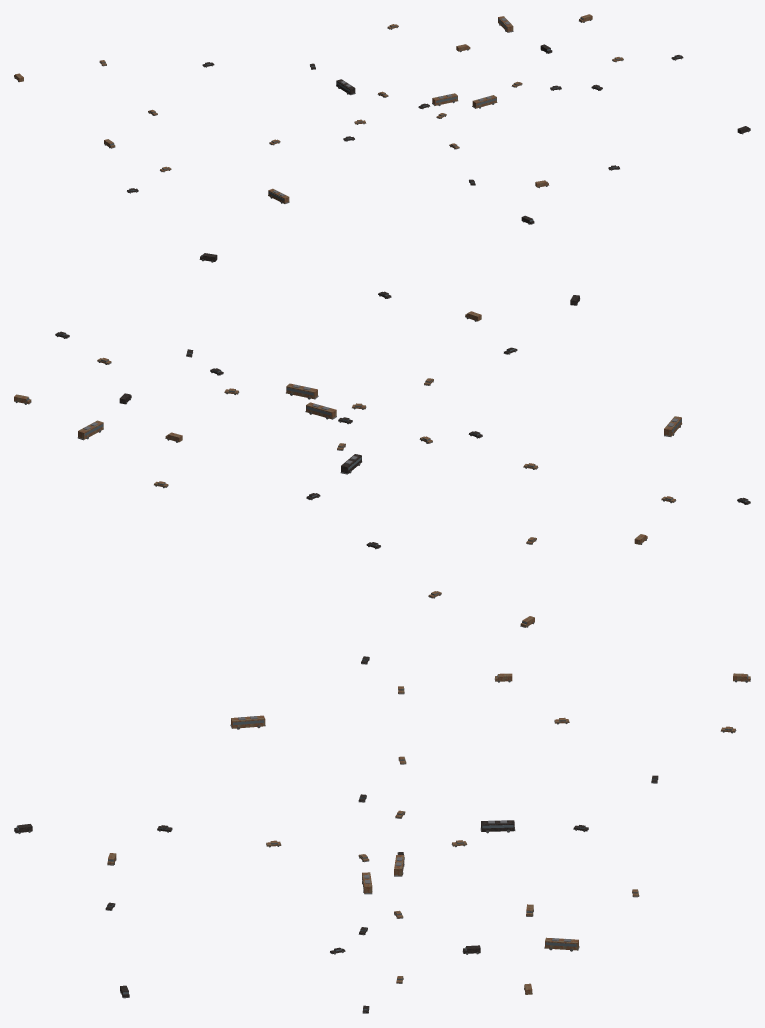
File: Destroyed_Vehicles.glb
3 views of the same model, one above another, from view 1: azimuth 30°, elevation 25°; view 2: azimuth 150°, elevation 25°; view 3: azimuth 270°, elevation 25° (orthographic). The views are drawn at different scales.
Parts seen in each view (by area): view 1: Destroyed_Vehicles; view 2: Destroyed_Vehicles; view 3: Destroyed_Vehicles.
Boxes of the visible parts, x1=… form: Destroyed_Vehicles: x1=14, y1=14, x2=750, y2=224; Destroyed_Vehicles: x1=14, y1=253, x2=750, y2=627; Destroyed_Vehicles: x1=14, y1=656, x2=750, y2=1013.
Size of the model in its own units: 263 by 3.4 by 230.
Materials: 5 (2 with a texture image).
